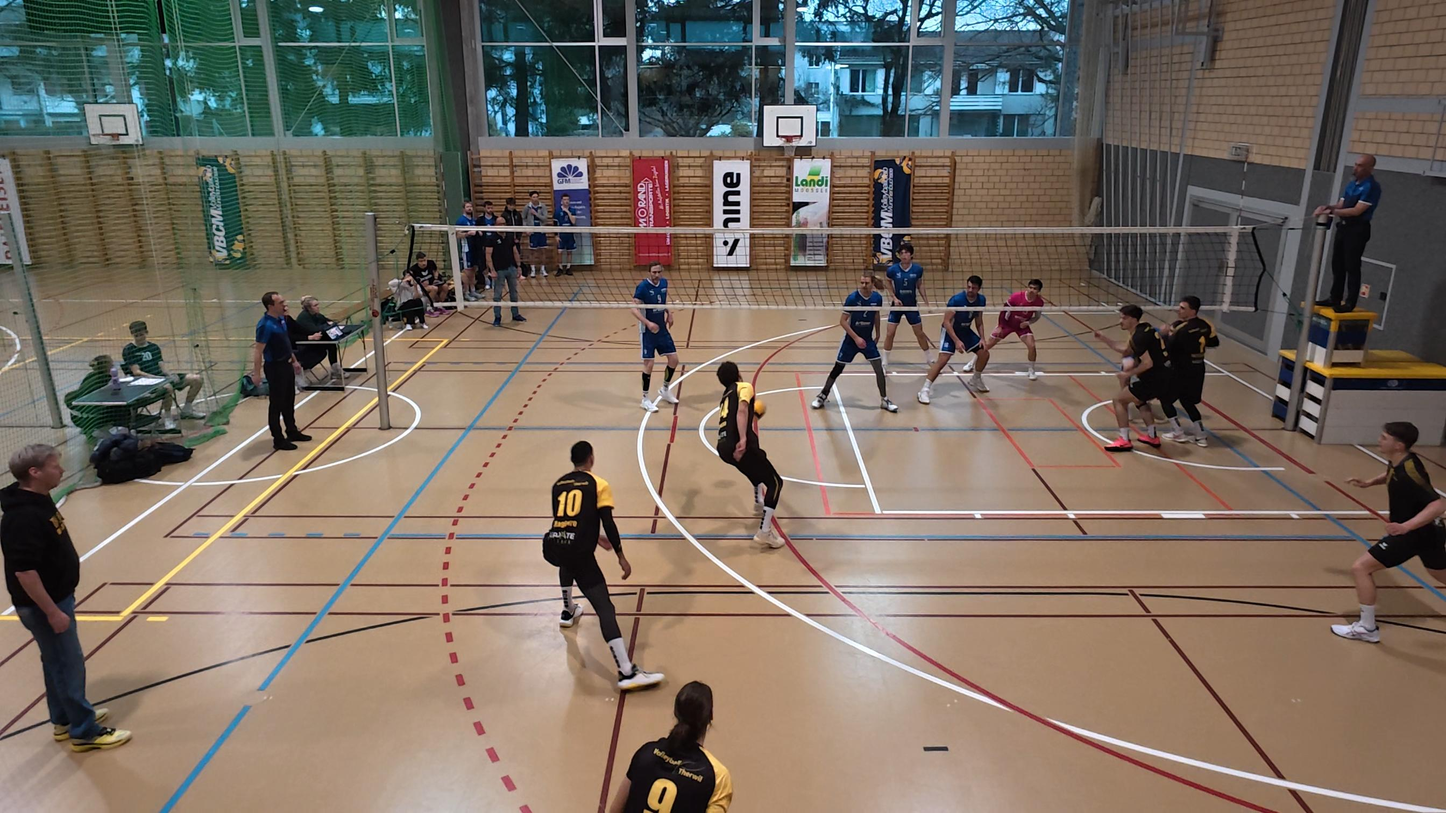Dig: (710, 357, 789, 551)
Player: (543, 440, 664, 691), (1331, 422, 1446, 643), (615, 682, 733, 812), (814, 273, 899, 413), (917, 275, 991, 404), (1101, 304, 1165, 452), (1159, 296, 1218, 445), (633, 263, 683, 411), (977, 277, 1047, 379), (884, 246, 935, 365)
ball: (736, 380, 761, 405)
